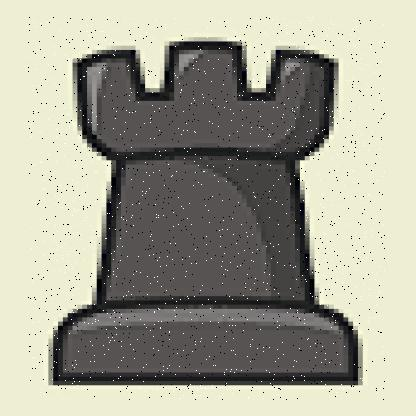Black Castle: (28, 18, 387, 402)
